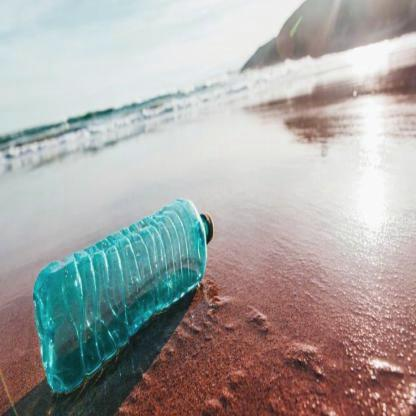Plastic: (31, 181, 221, 390)
